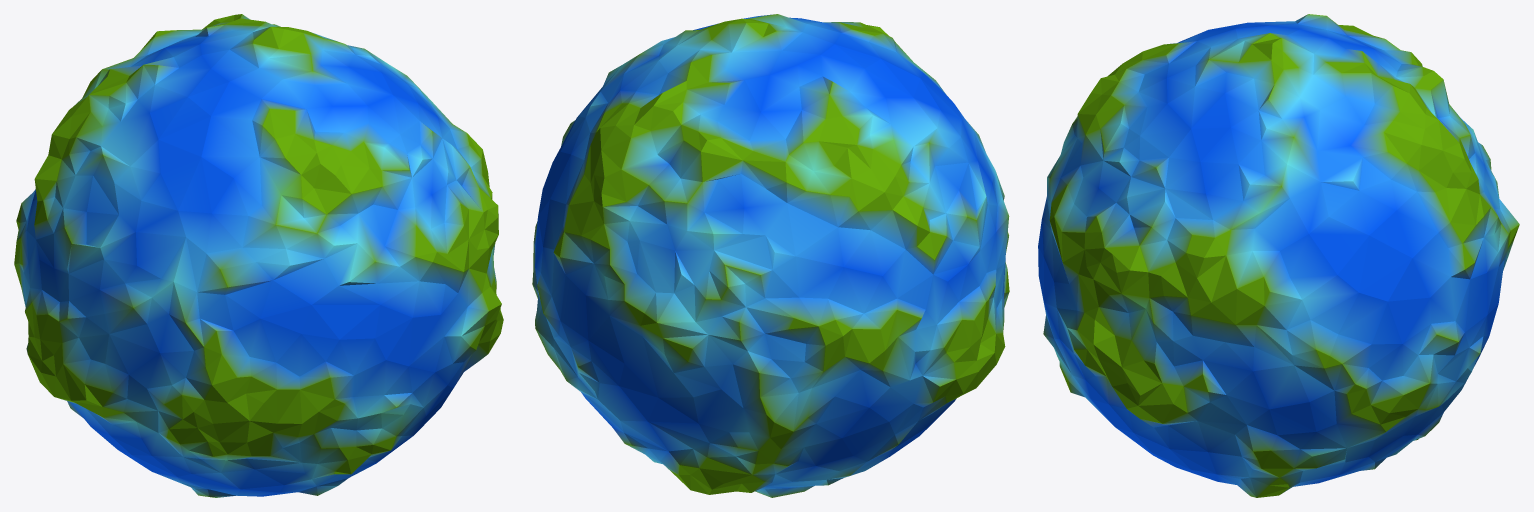
File: planet_58.fbx
3 views of the same model, side by side, from view 1: azimuth 30°, elevation 25°; view 2: azimuth 150°, elevation 25°; view 3: azimuth 270°, elevation 25° (orthographic).
Parts seen in each view (by area): view 1: file1; view 2: file1; view 3: file1.
Boxes of the visible parts, box(x1,y1,x2,y2) form: file1: box(14, 14, 503, 497); file1: box(532, 14, 1009, 497); file1: box(1038, 14, 1519, 497).
Bounding box in the file's own units: 2.09 × 2.1 × 2.07.
